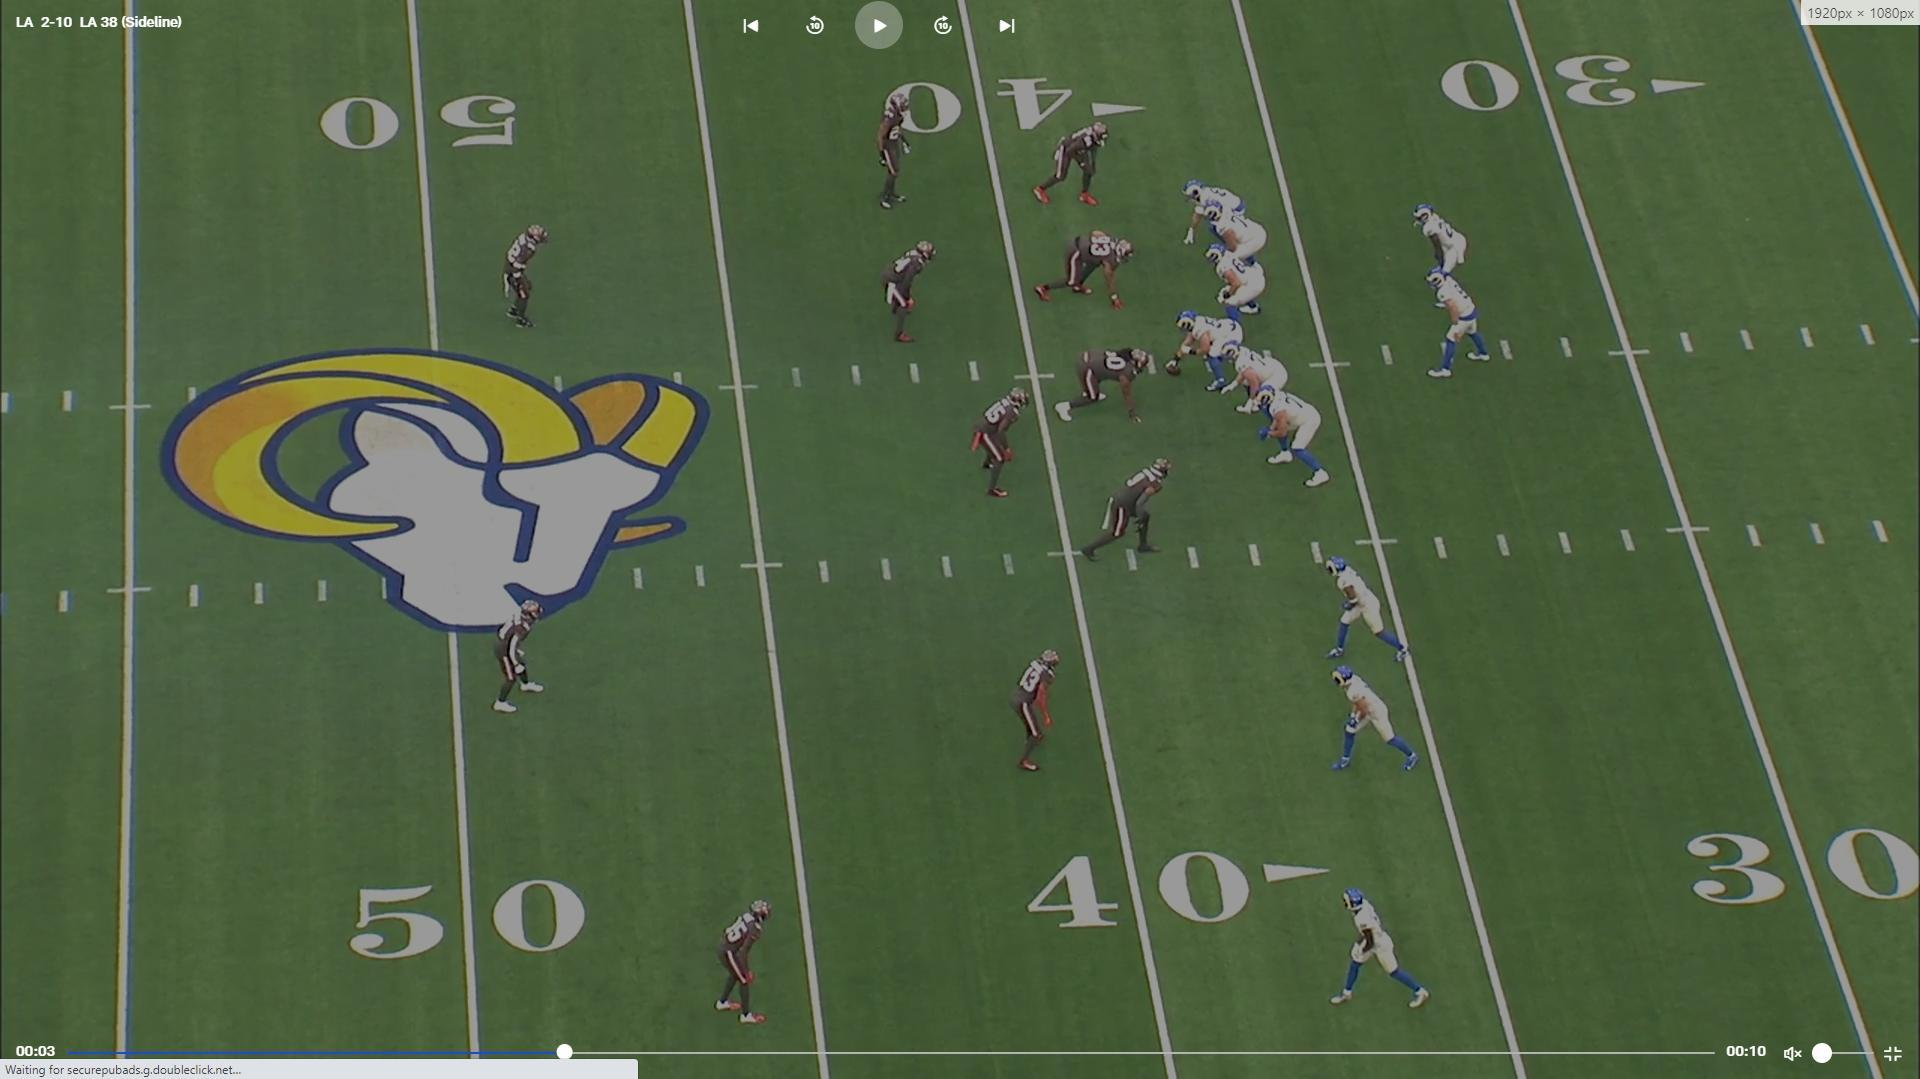player: (1326, 883, 1447, 1021), (1324, 658, 1430, 782), (1319, 549, 1423, 667), (1074, 453, 1174, 559), (710, 892, 785, 1028), (1247, 386, 1330, 497), (487, 584, 553, 723), (1030, 227, 1139, 311), (1010, 644, 1074, 784), (1425, 262, 1497, 386), (1053, 342, 1153, 425), (1029, 121, 1113, 214), (972, 386, 1036, 508), (880, 237, 944, 352), (1408, 198, 1469, 310), (1162, 308, 1244, 390), (868, 85, 919, 213), (1211, 242, 1272, 337), (503, 220, 553, 332), (1178, 175, 1247, 251), (1229, 342, 1295, 419), (1209, 205, 1273, 264)
